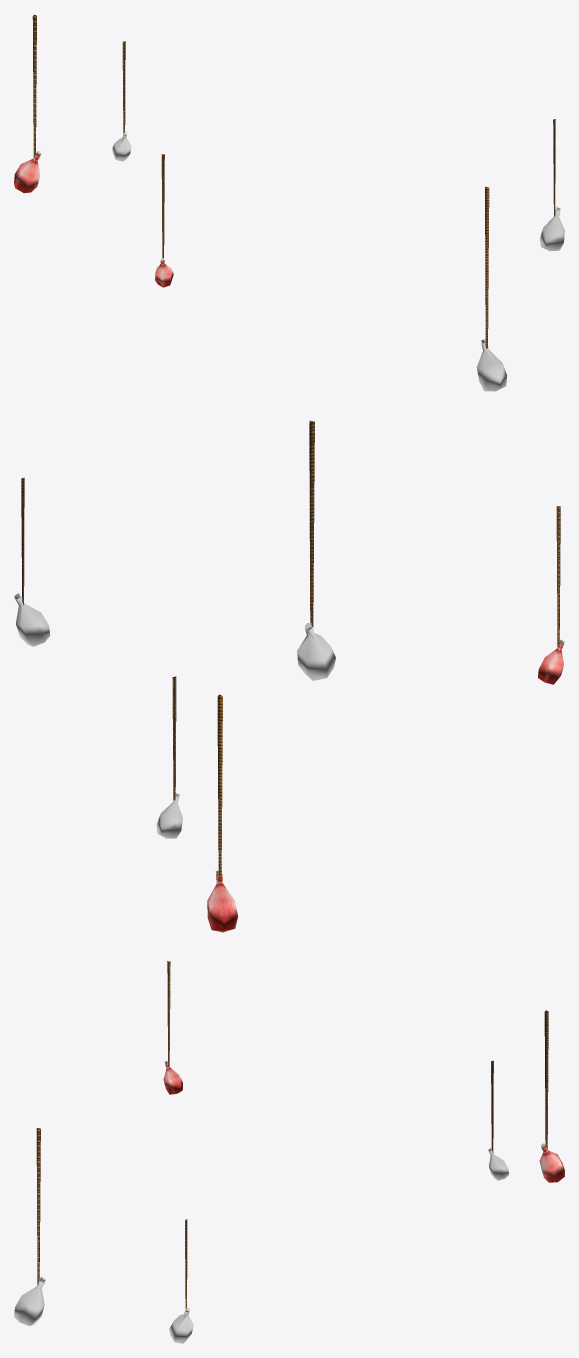
Rendered from goblinhutbottles.obj.
3 renders of one model, top to bottom at view 1: azimuth 30°, elevation 25°; view 2: azimuth 150°, elevation 25°; view 3: azimuth 270°, elevation 25°, orthographic. The views are drawn at different scales.
Visible parts, largest first — view 1: Geoset0, Geoset3, Geoset1, Geoset4; view 2: Geoset0, Geoset3, Geoset1, Geoset4; view 3: Geoset0, Geoset3, Geoset1, Geoset4.
Boxes of the visible parts, box(x1,y1,x2,y2) form: Geoset0: box(32, 14, 555, 349); Geoset3: box(112, 134, 506, 391); Geoset1: box(14, 153, 173, 287); Geoset4: box(540, 209, 564, 251); Geoset0: box(21, 420, 560, 882); Geoset3: box(156, 626, 335, 838); Geoset1: box(207, 642, 563, 932); Geoset4: box(15, 596, 50, 646); Geoset0: box(36, 961, 548, 1309); Geoset3: box(14, 1150, 508, 1325); Geoset1: box(163, 1063, 564, 1182); Geoset4: box(169, 1310, 193, 1343).
Size of the model in its own units: 22.99 by 13.15 by 27.31.
